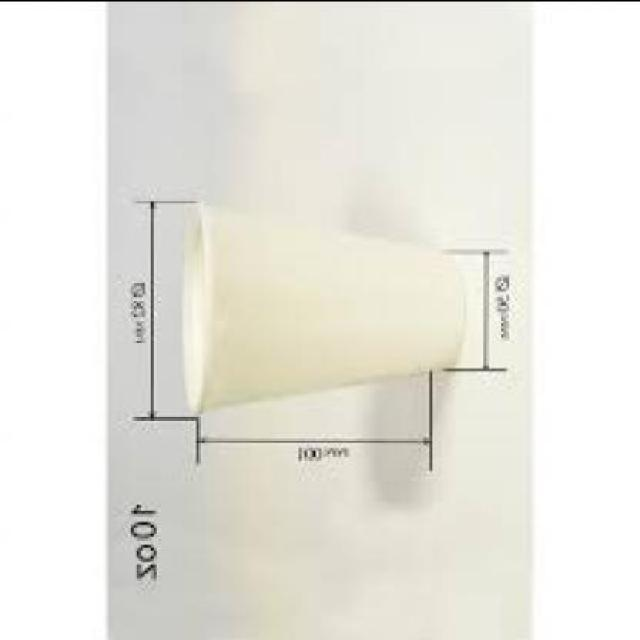PAPER: (179, 194, 464, 415)
